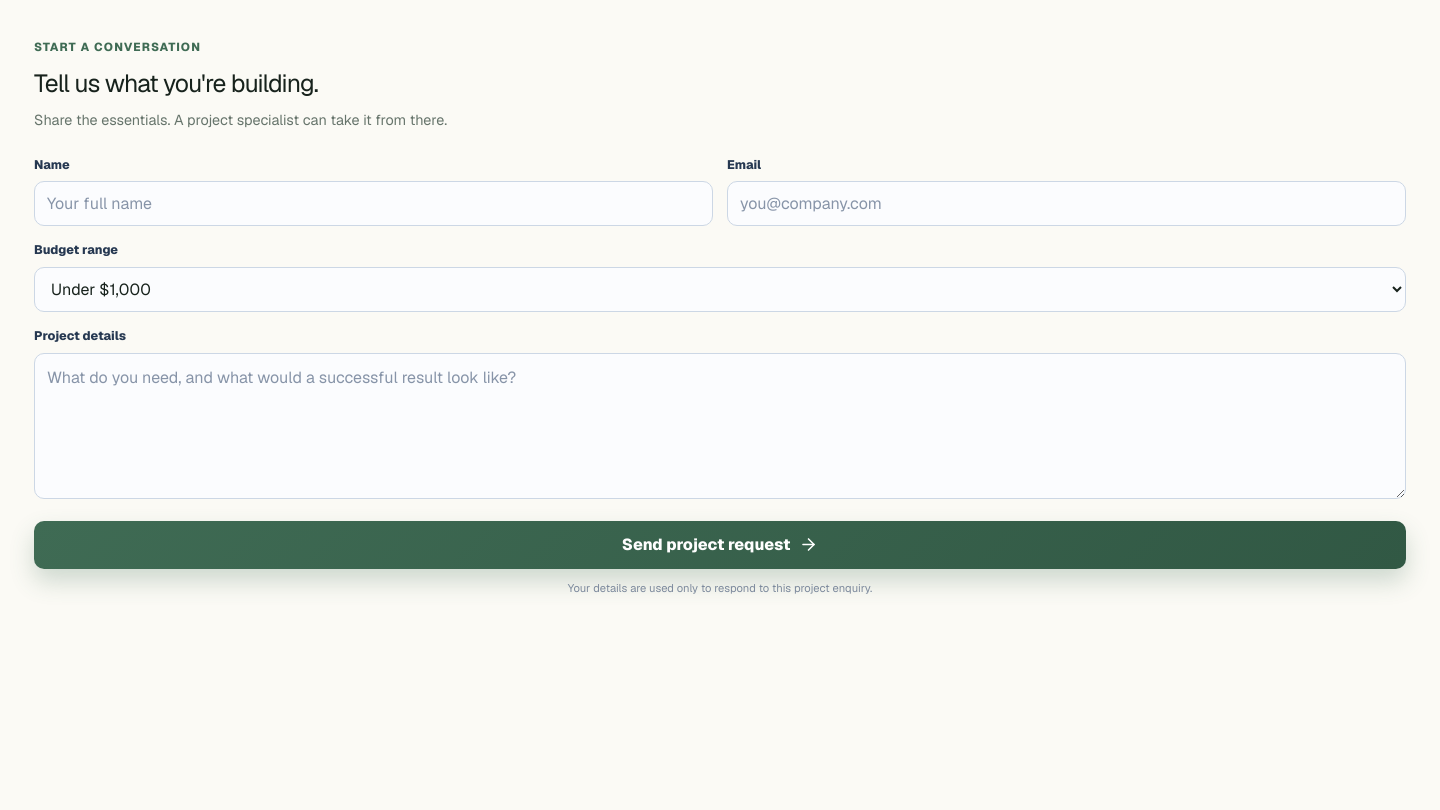
Scenario: LeadForm › shows a clear client-side email error
Type "Mousumi Swain" into the field labelled "Name" at (374, 204), box [34, 181, 713, 226]
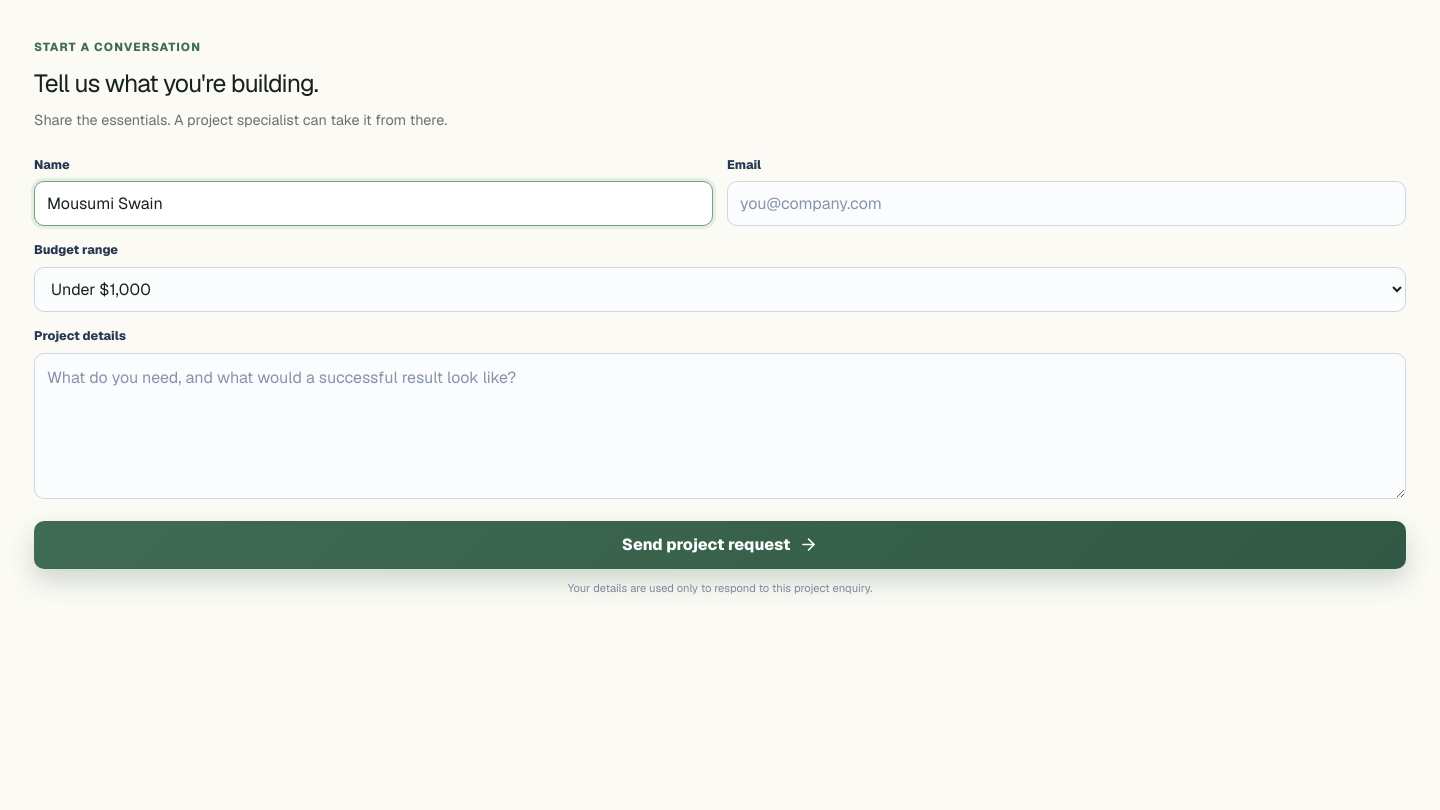
Type "mousumi@example.com" into the field labelled "Email" at (1066, 204), box [727, 181, 1406, 226]
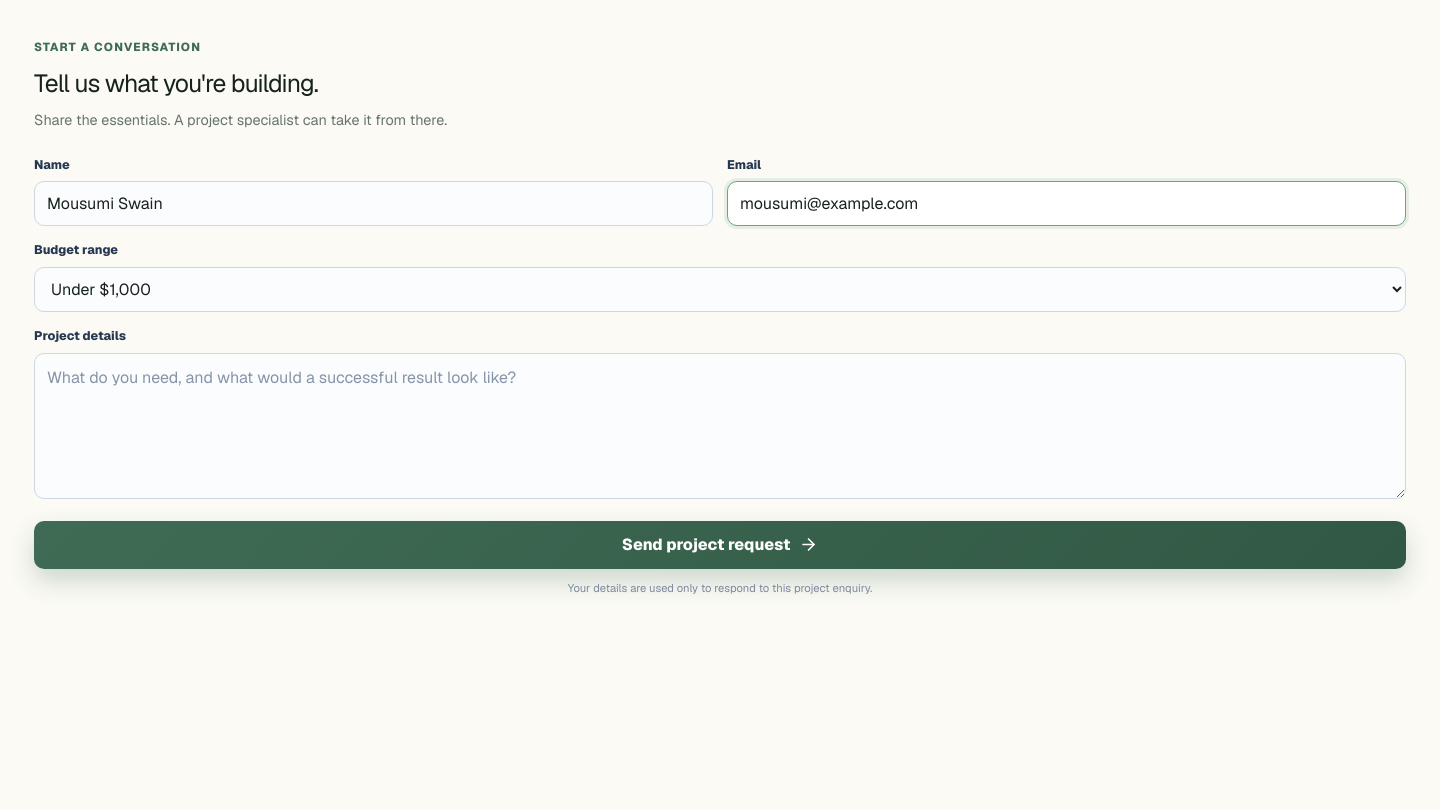
Select "$1,000 - $5,000" in the dropdown labelled "Budget range" at (720, 290), box [34, 267, 1406, 312]
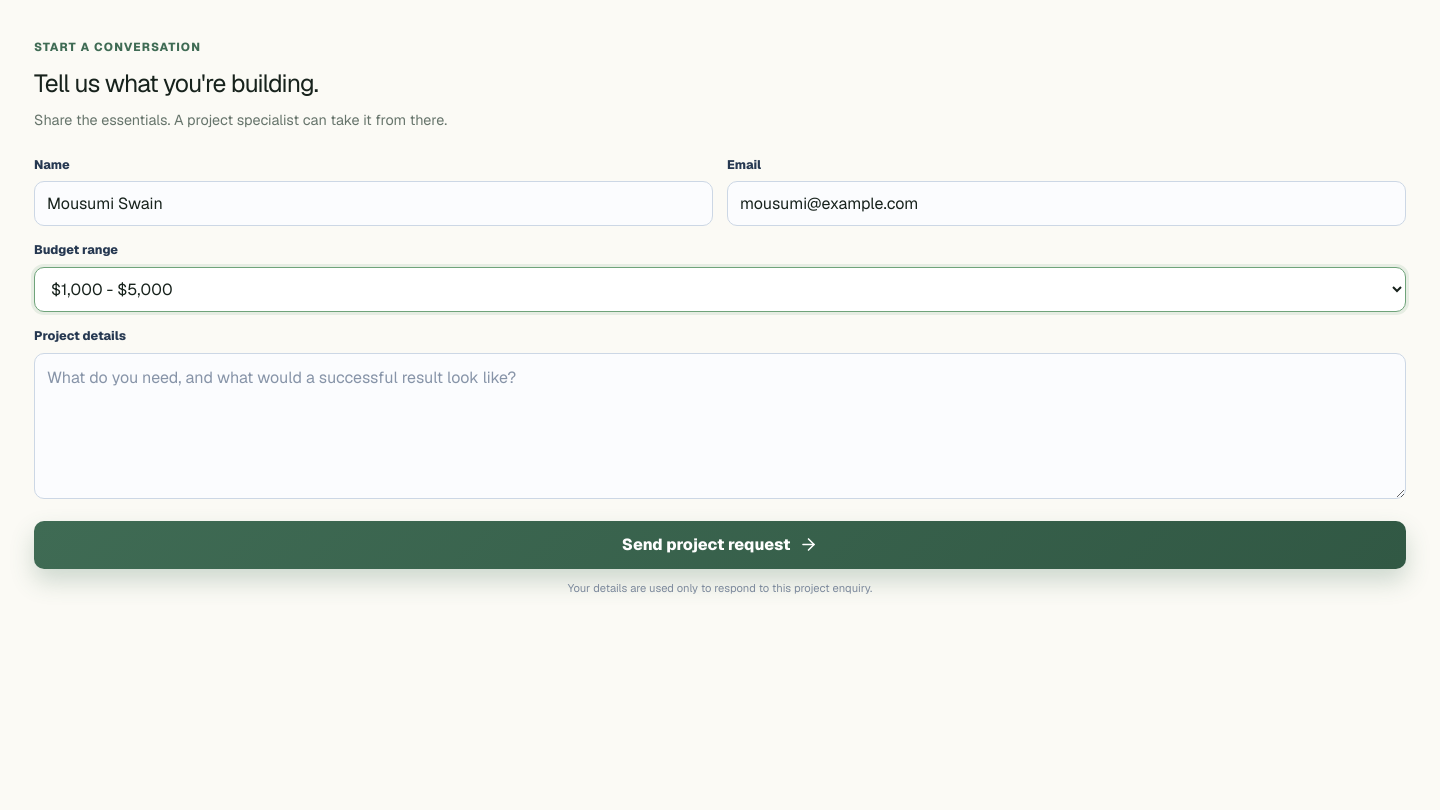
Type "I need a responsive Shopify storefront for my clothing brand." into the text box labelled "Project details" at (720, 426), box [34, 353, 1406, 499]
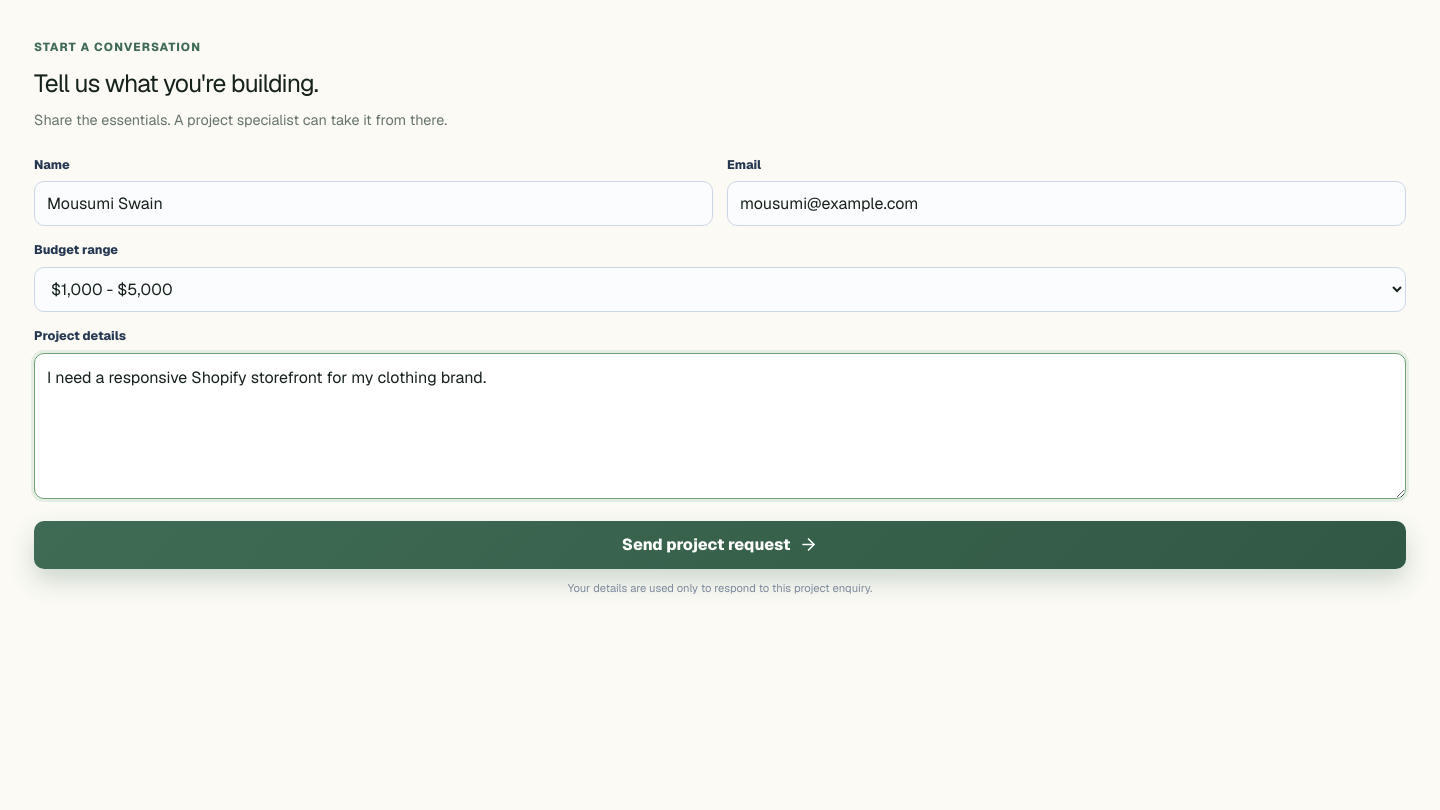
Replace the text in the field labelled "Email" with "invalid-email" at (1066, 204), box [727, 181, 1406, 226]
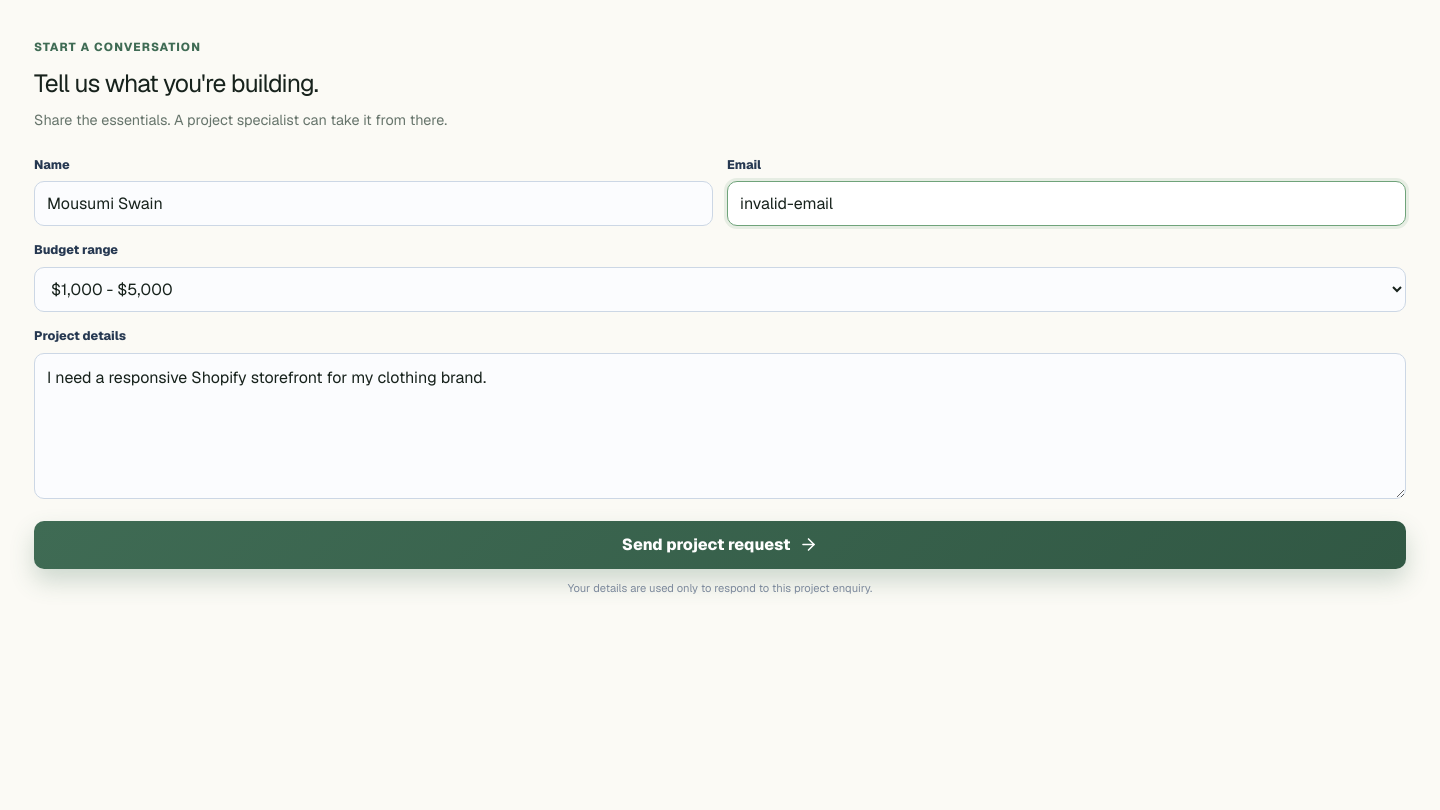
Click the button "Send project request" at (720, 545), box [34, 521, 1406, 569]
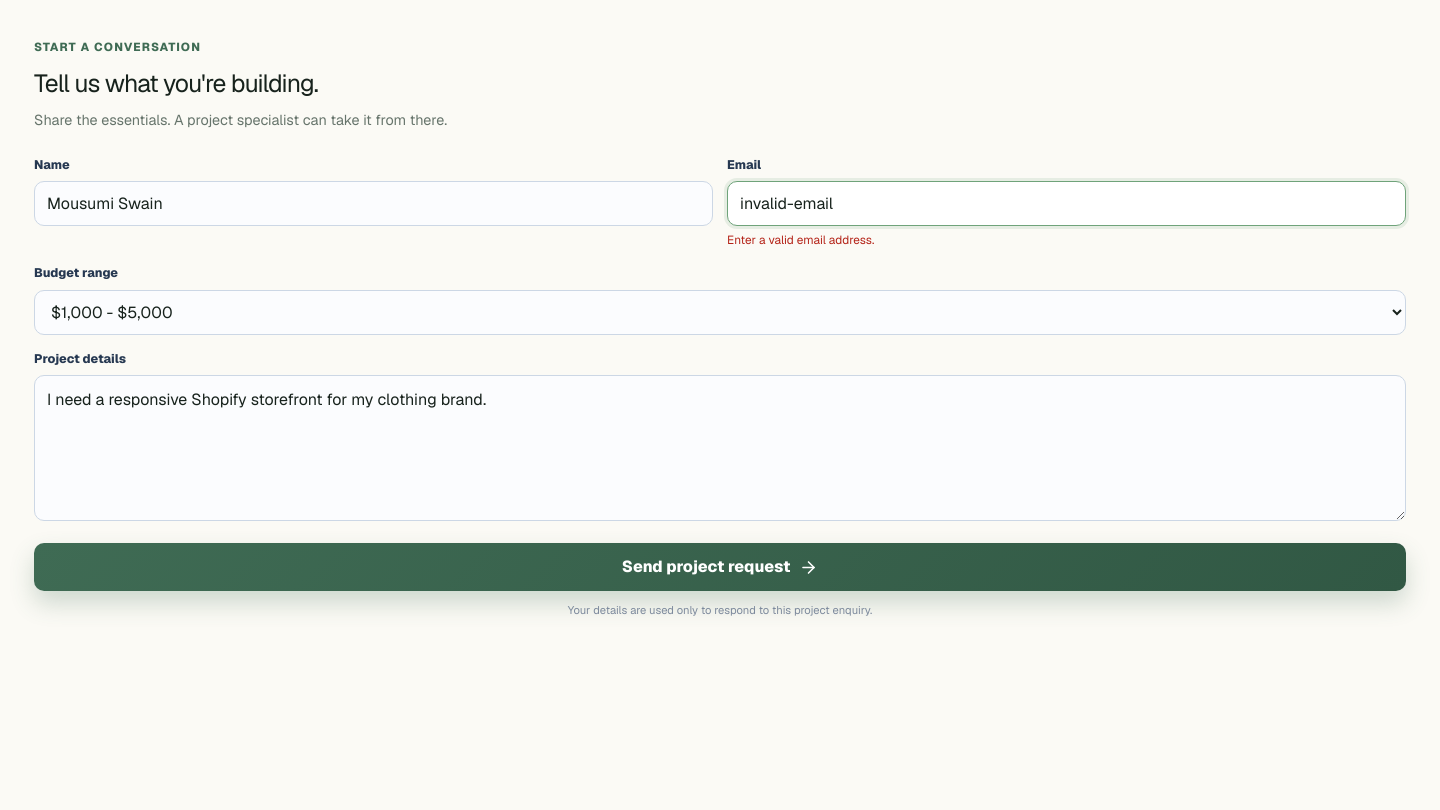
Check: the text "Enter a valid email address." is shown, box [727, 232, 874, 247]
